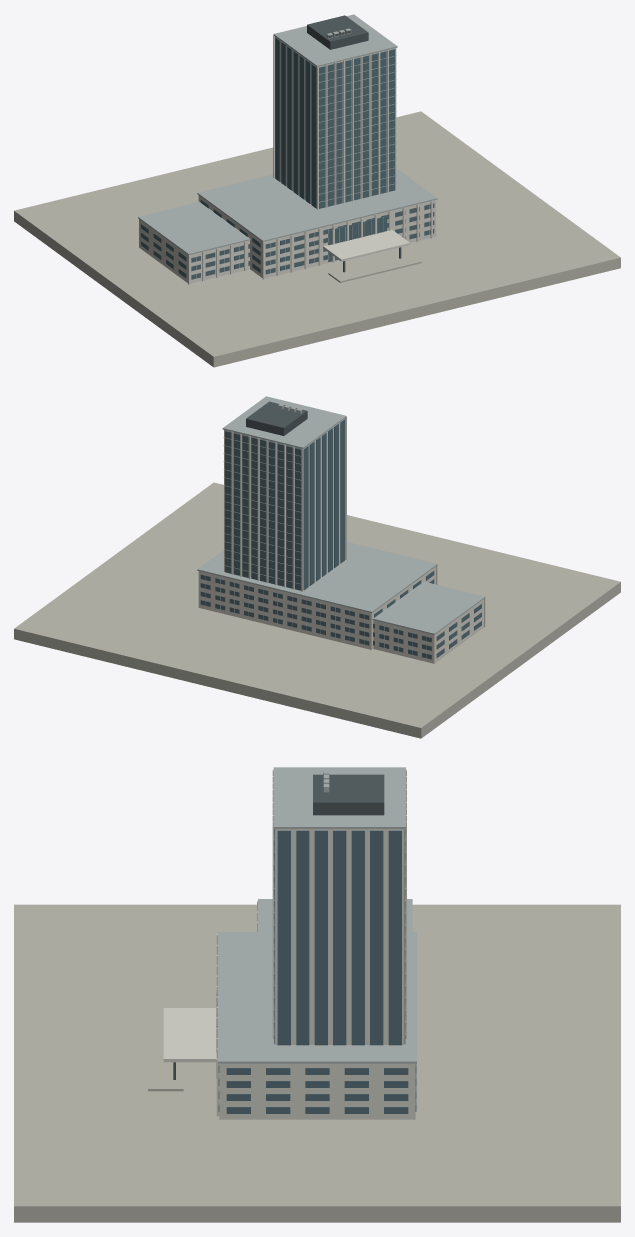
3 renders of one model, top to bottom at view 1: azimuth 30°, elevation 25°; view 2: azimuth 150°, elevation 25°; view 3: azimuth 270°, elevation 25°, orthographic. The views are drawn at different scales.
Parts seen in each view (by area): view 1: RA_study_base, RA_tower_curtain_glass, RA_podium_roof, RA_tower_vertical_fins, RA_tower, RA_left_wing_roof, RA_podium, RA_tower_roof, RA_left_wing, RA_podium_glazing, RA_entry_canopy, RA_tower_floor_mullions (+5 smaller); view 2: RA_study_base, RA_tower_curtain_glass, RA_podium_roof, RA_podium, RA_tower_vertical_fins, RA_tower, RA_left_wing_roof, RA_podium_glazing, RA_left_wing, RA_tower_roof, RA_tower_floor_mullions, RA_roof_service (+1 smaller); view 3: RA_study_base, RA_tower_curtain_glass, RA_podium_roof, RA_tower, RA_podium, RA_tower_roof, RA_podium_glazing, RA_entry_canopy, RA_roof_service, RA_entry_steps, RA_tower_vertical_fins, RA_left_wing_roof.
Boxes of the visible parts, x1=… form: RA_study_base: x1=14, y1=111, x2=620, y2=367; RA_tower_curtain_glass: x1=275, y1=37, x2=395, y2=208; RA_podium_roof: x1=197, y1=168, x2=437, y2=241; RA_tower_vertical_fins: x1=273, y1=35, x2=388, y2=209; RA_tower: x1=275, y1=36, x2=396, y2=208; RA_left_wing_roof: x1=138, y1=201, x2=250, y2=255; RA_podium: x1=198, y1=195, x2=436, y2=278; RA_tower_roof: x1=273, y1=14, x2=397, y2=66; RA_left_wing: x1=139, y1=219, x2=249, y2=283; RA_podium_glazing: x1=200, y1=199, x2=434, y2=274; RA_entry_canopy: x1=323, y1=229, x2=410, y2=261; RA_tower_floor_mullions: x1=319, y1=48, x2=396, y2=202; RA_study_base: x1=14, y1=482, x2=620, y2=738; RA_tower_curtain_glass: x1=225, y1=419, x2=344, y2=590; RA_podium_roof: x1=197, y1=542, x2=437, y2=612; RA_podium: x1=198, y1=566, x2=436, y2=649; RA_tower_vertical_fins: x1=231, y1=417, x2=346, y2=591; RA_tower: x1=224, y1=418, x2=345, y2=590; RA_left_wing_roof: x1=372, y1=581, x2=485, y2=634; RA_podium_glazing: x1=200, y1=571, x2=434, y2=645; RA_left_wing: x1=373, y1=599, x2=484, y2=663; RA_tower_roof: x1=222, y1=396, x2=346, y2=448; RA_tower_floor_mullions: x1=223, y1=430, x2=301, y2=584; RA_roof_service: x1=246, y1=401, x2=307, y2=435; RA_study_base: x1=14, y1=904, x2=620, y2=1222; RA_tower_curtain_glass: x1=274, y1=829, x2=405, y2=1045; RA_podium_roof: x1=218, y1=932, x2=416, y2=1063; RA_tower: x1=275, y1=829, x2=404, y2=1044; RA_podium: x1=219, y1=1063, x2=415, y2=1119; RA_tower_roof: x1=273, y1=767, x2=405, y2=828; RA_podium_glazing: x1=218, y1=1064, x2=416, y2=1113; RA_entry_canopy: x1=163, y1=1008, x2=216, y2=1062; RA_roof_service: x1=313, y1=774, x2=384, y2=815; RA_entry_steps: x1=148, y1=1028, x2=183, y2=1091; RA_tower_vertical_fins: x1=272, y1=769, x2=406, y2=1038; RA_left_wing_roof: x1=258, y1=899, x2=412, y2=931.
Bounding box in the file's own units: 160 × 76.9 × 136.
